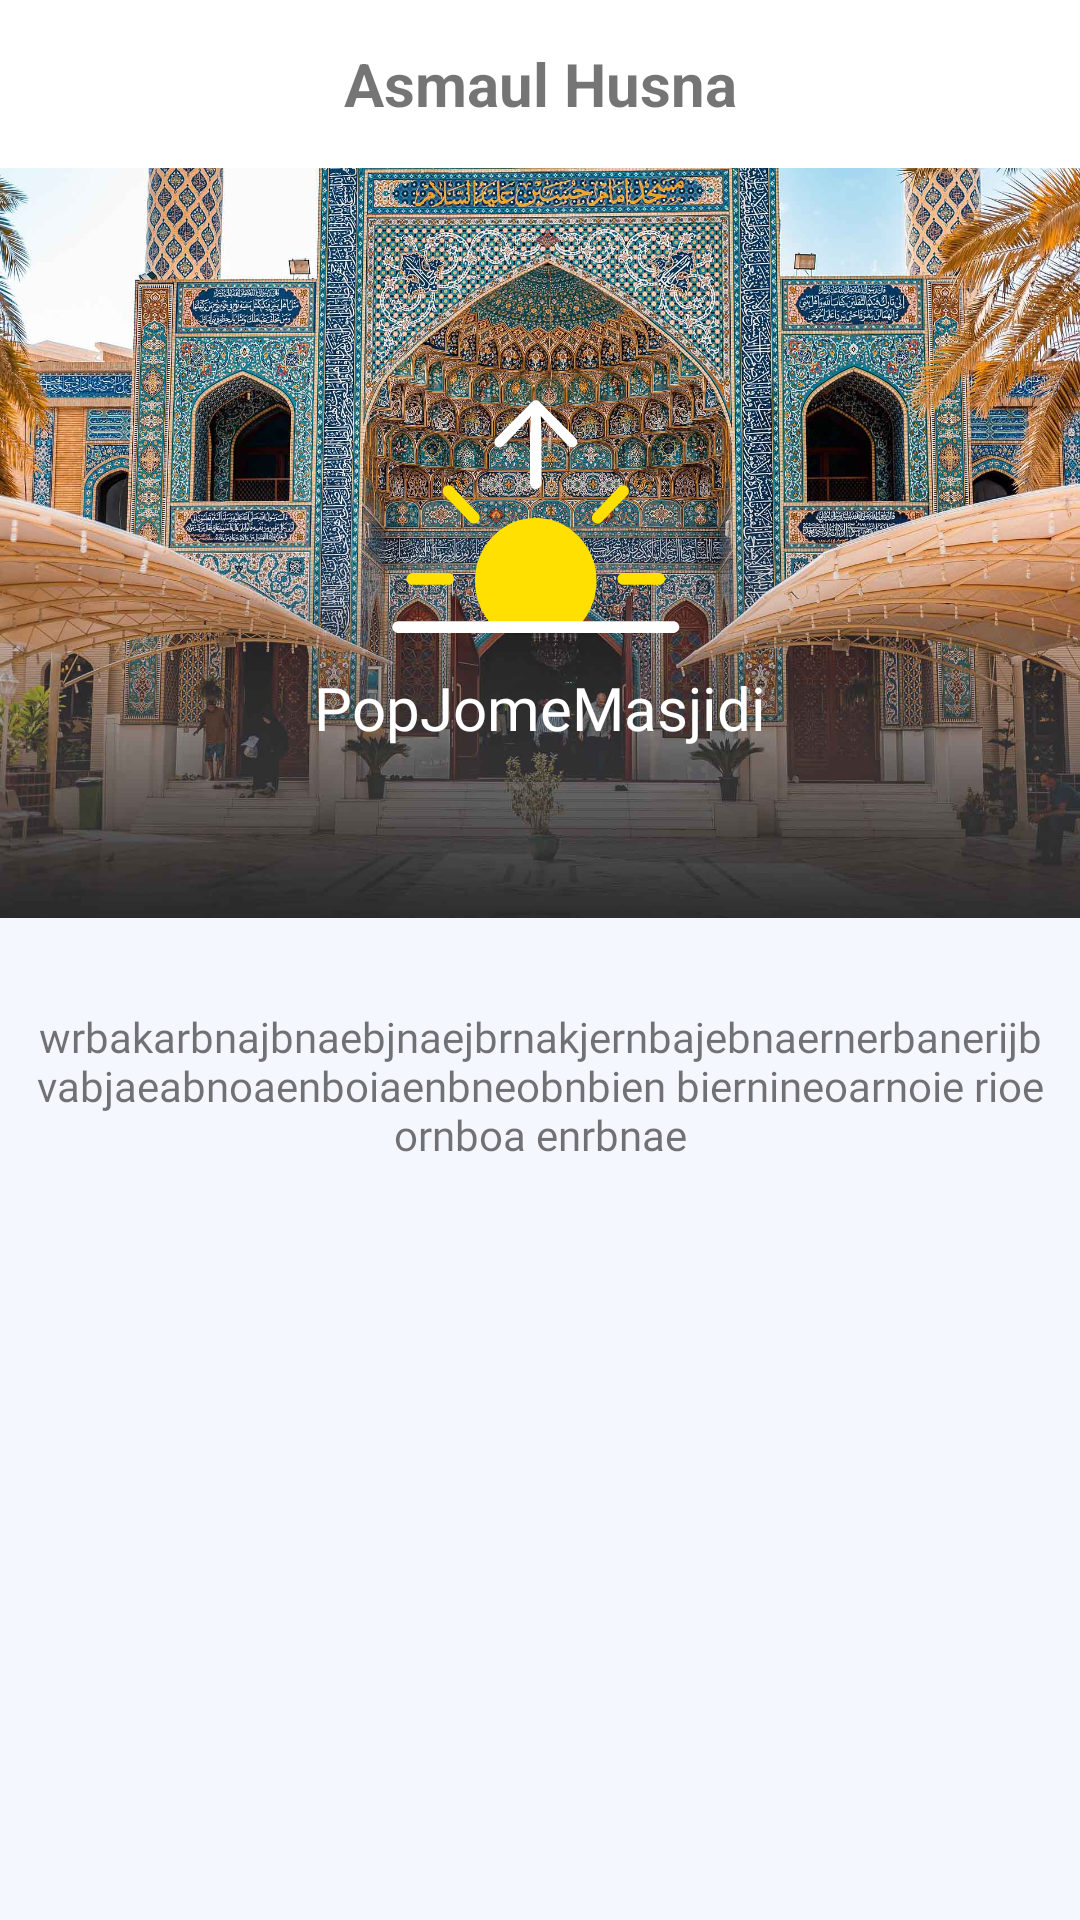

Named icons in this screenshot (1080x1920) and their centers, (x=x, y=y):
sunrise: (x=540, y=487)
